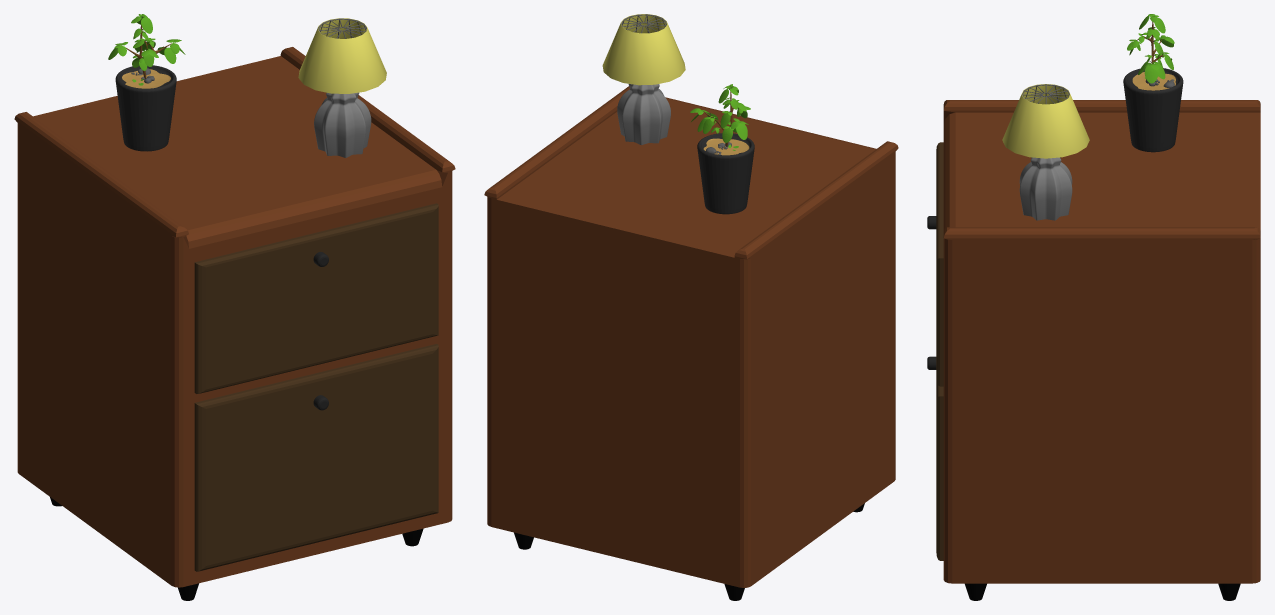
File: Meja + vas bunga.fbx
3 renders of one model, left to right at view 1: azimuth 30°, elevation 25°; view 2: azimuth 150°, elevation 25°; view 3: azimuth 270°, elevation 25°, orthographic. The views are drawn at different scales.
Visible parts, largest first — view 1: Lemari, Lamp Sided Table.002, Vase; view 2: Lemari, Lamp Sided Table.002, Vase; view 3: Lemari, Lamp Sided Table.002, Vase.
Boxes of the visible parts, bbox=[...] form: Lemari: bbox=[14, 47, 455, 600]; Lamp Sided Table.002: bbox=[298, 18, 386, 157]; Vase: bbox=[108, 14, 185, 151]; Lemari: bbox=[484, 86, 898, 600]; Lamp Sided Table.002: bbox=[602, 14, 685, 145]; Vase: bbox=[690, 84, 754, 214]; Lemari: bbox=[927, 100, 1260, 600]; Lamp Sided Table.002: bbox=[1002, 84, 1089, 220]; Vase: bbox=[1123, 14, 1183, 152].
Bounding box in the file's own units: 200 × 346 × 210.
